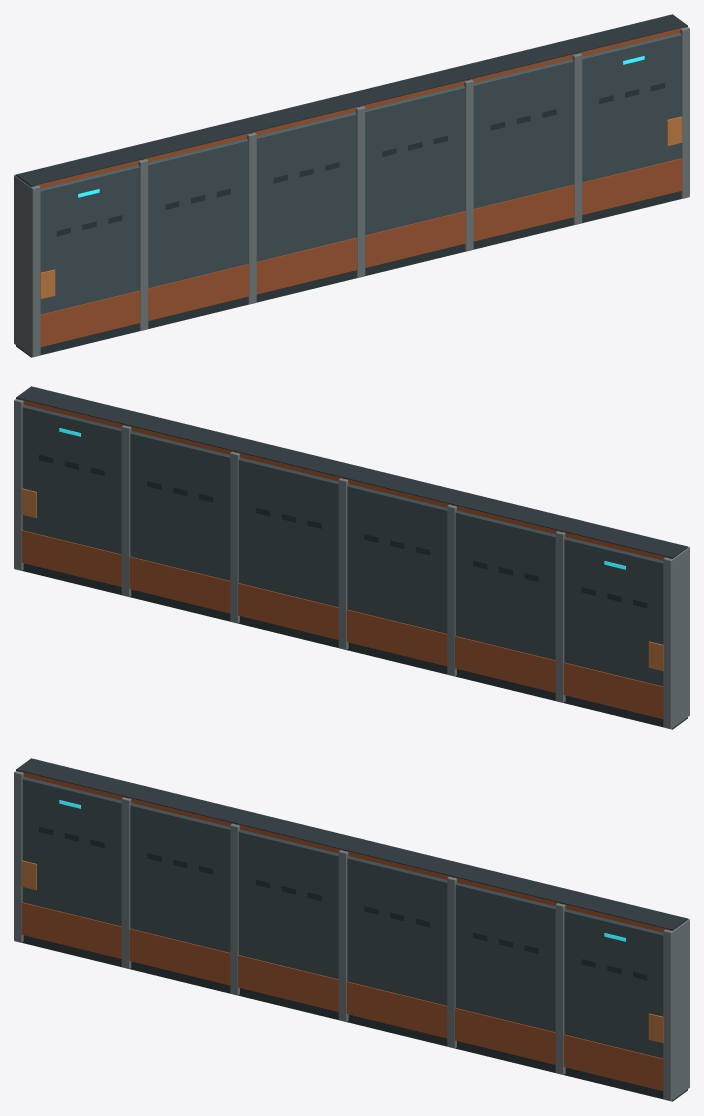
The model's file is e6-sight-screen-far.glb.
3 views of the same model, one above another, from view 1: azimuth 30°, elevation 25°; view 2: azimuth 150°, elevation 25°; view 3: azimuth 330°, elevation 25° (orthographic).
Parts seen in each view (by area): view 1: Band 6 sight screen far; view 2: Band 6 sight screen far; view 3: Band 6 sight screen far.
Boxes of the visible parts, bbox=[...] form: Band 6 sight screen far: bbox=[14, 14, 689, 357]; Band 6 sight screen far: bbox=[14, 386, 689, 729]; Band 6 sight screen far: bbox=[14, 758, 689, 1101].
Bounding box in the file's own units: 12 × 3 × 0.6.
